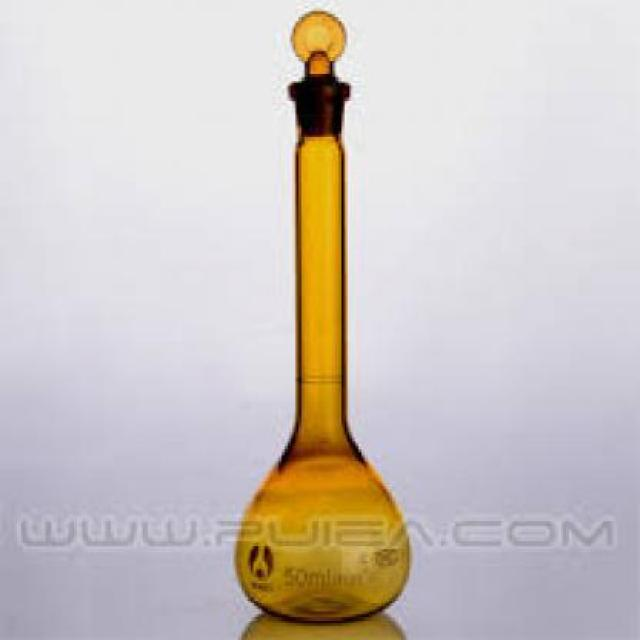kaca: (234, 8, 409, 623)
